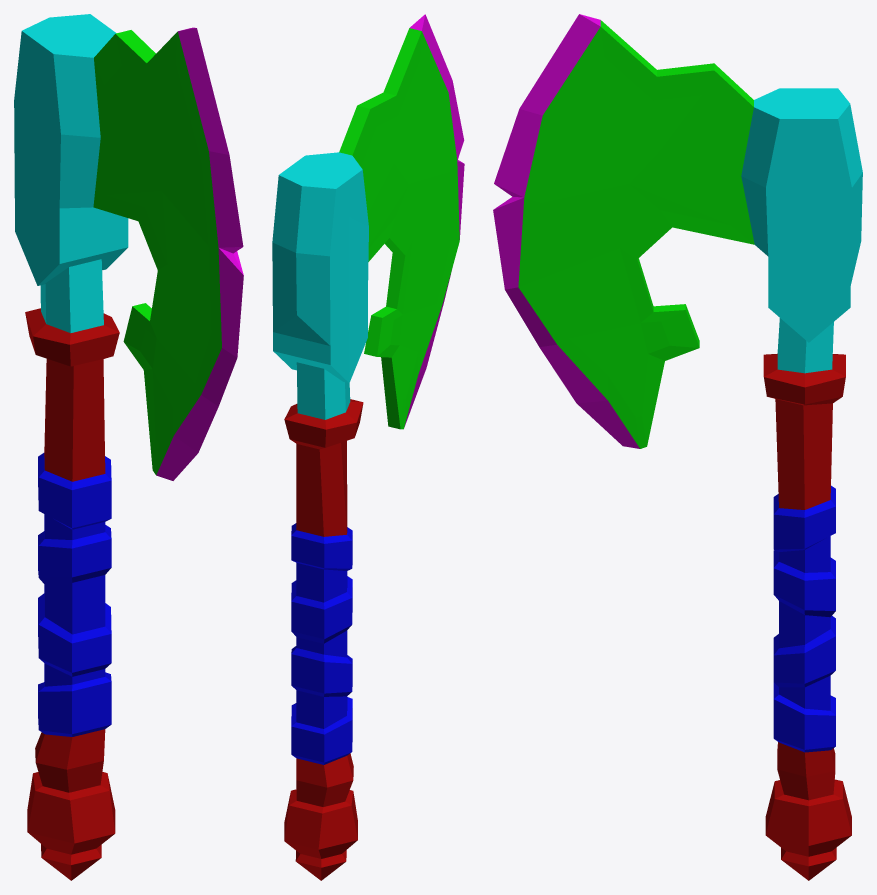
Rendered from Axe_Common_Iron.fbx.
3 renders of one model, left to right at view 1: azimuth 30°, elevation 25°; view 2: azimuth 150°, elevation 25°; view 3: azimuth 270°, elevation 25°, orthographic. The views are drawn at different scales.
Visible parts, largest first — view 1: SM_Wep_HandAxe_01; view 2: SM_Wep_HandAxe_01; view 3: SM_Wep_HandAxe_01.
Boxes of the visible parts, box(x1,y1,x2,y2) form: SM_Wep_HandAxe_01: box(14, 14, 243, 880); SM_Wep_HandAxe_01: box(272, 14, 464, 880); SM_Wep_HandAxe_01: box(493, 14, 862, 880).
Size of the model in its own units: 0.0831 by 0.8516 by 0.3292.
